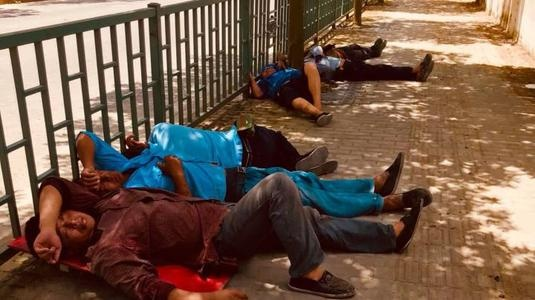falling: (309, 32, 436, 85)
